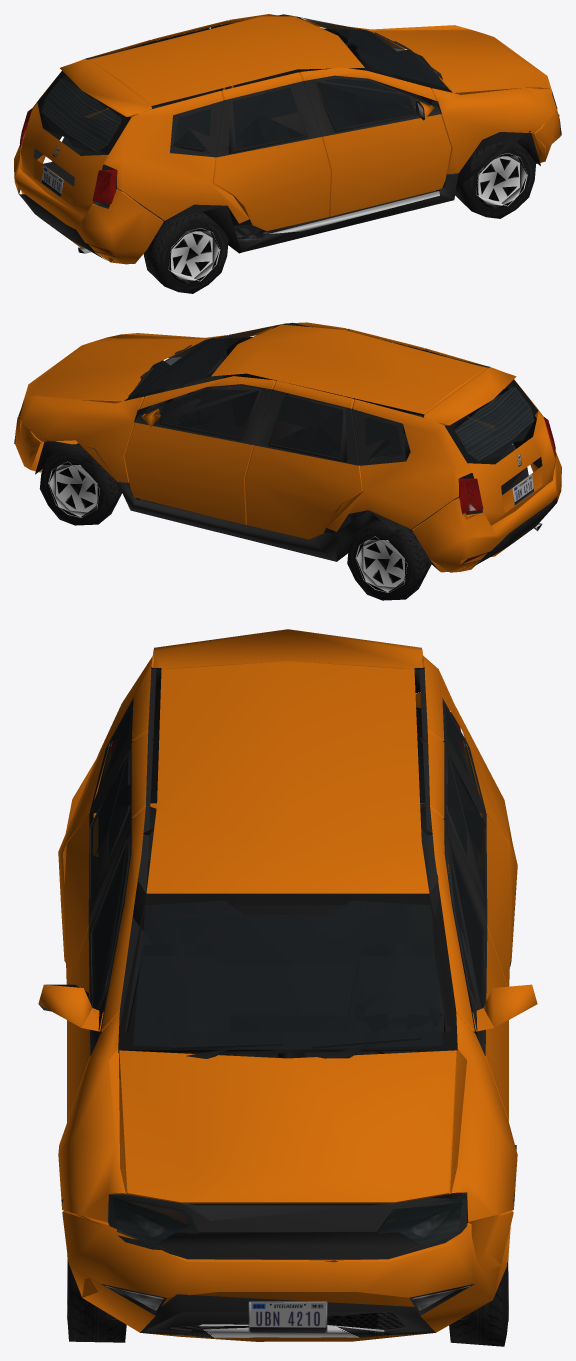
Rendered from v_urban10_lod.glb.
3 renders of one model, top to bottom at view 1: azimuth 30°, elevation 25°; view 2: azimuth 150°, elevation 25°; view 3: azimuth 270°, elevation 25°, orthographic. The views are drawn at different scales.
Visible parts, largest first — view 1: Urban10_body_Urban10_bodymat_0, Urban10_Bottom_UCB_BOTTOM_LT_0, Urban10_Interior_UCB_Interiors_2_0, Urban10_Bumper_Rear_Urban10_bodymat_0, Urban10_WheelStock_RR_RB1c_Tire_1k_0, Urban10_WheelStock_FR_RB1c_Tire_1k_0, Urban10_Body_Glass_UCB_Lights_and_Glass_Transperent_0, Urban10_Glass_Rear_UCB_Lights_and_Glass_Transperent_0, Urban10_Glass_Passenger_UCB_Lights_and_Glass_Transperent_0, Urban10_Windshield_UCB_Lights_and_Glass_Transperent_0, Urban10_Bumper_Rear_Inner_UCB_BOTTOM_LT_0, Urban10_Taillights_Glass_UCB_Lights_and_Glass_Transperent_0 (+2 smaller); view 2: Urban10_body_Urban10_bodymat_0, Urban10_Bottom_UCB_BOTTOM_LT_0, Urban10_Interior_UCB_Interiors_2_0, Urban10_Bumper_Rear_Urban10_bodymat_0, Urban10_WheelStock_RL_RB1c_Tire_1k_0, Urban10_WheelStock_FL_RB1c_Tire_1k_0, Urban10_Body_Glass_UCB_Lights_and_Glass_Transperent_0, Urban10_Glass_Rear_UCB_Lights_and_Glass_Transperent_0, Urban10_Glass_Driver_UCB_Lights_and_Glass_Transperent_0, Urban10_Windshield_UCB_Lights_and_Glass_Transperent_0, Urban10_Bumper_Rear_Inner_UCB_BOTTOM_LT_0, Urban10_Bumper_Front_Urban10_bodymat_0 (+2 smaller); view 3: Urban10_body_Urban10_bodymat_0, Urban10_Bottom_UCB_BOTTOM_LT_0, Urban10_Interior_UCB_Interiors_2_0, Urban10_Windshield_UCB_Lights_and_Glass_Transperent_0, Urban10_Bumper_Front_Urban10_bodymat_0, Urban10_Bumper_Front_Inner_UCB_BOTTOM_LT_0, Urban10_Body_Glass_UCB_Lights_and_Glass_Transperent_0, Urban10_Headlight_Glass_UCB_Lights_and_Glass_Transperent_0, Urban10_Glass_Passenger_UCB_Lights_and_Glass_Transperent_0, Urban10_Numberplate_Front_Numberplates_Misk_U_0, Urban10_WheelStock_FL_RB1c_Tire_1k_0, Urban10_WheelStock_FR_RB1c_Tire_1k_0 (+2 smaller).
Boxes of the visible parts, x1=… form: Urban10_body_Urban10_bodymat_0: x1=20, y1=14, x2=555, y2=261; Urban10_Bottom_UCB_BOTTOM_LT_0: x1=20, y1=14, x2=557, y2=253; Urban10_Interior_UCB_Interiors_2_0: x1=33, y1=28, x2=447, y2=228; Urban10_Bumper_Rear_Urban10_bodymat_0: x1=14, y1=142, x2=163, y2=264; Urban10_WheelStock_RR_RB1c_Tire_1k_0: x1=143, y1=212, x2=228, y2=293; Urban10_WheelStock_FR_RB1c_Tire_1k_0: x1=455, y1=142, x2=536, y2=218; Urban10_Body_Glass_UCB_Lights_and_Glass_Transperent_0: x1=173, y1=87, x2=305, y2=151; Urban10_Glass_Rear_UCB_Lights_and_Glass_Transperent_0: x1=41, y1=78, x2=121, y2=152; Urban10_Glass_Passenger_UCB_Lights_and_Glass_Transperent_0: x1=317, y1=78, x2=413, y2=130; Urban10_Windshield_UCB_Lights_and_Glass_Transperent_0: x1=301, y1=17, x2=447, y2=87; Urban10_Bumper_Rear_Inner_UCB_BOTTOM_LT_0: x1=18, y1=188, x2=115, y2=260; Urban10_Taillights_Glass_UCB_Lights_and_Glass_Transperent_0: x1=19, y1=108, x2=116, y2=204; Urban10_body_Urban10_bodymat_0: x1=19, y1=322, x2=555, y2=572; Urban10_Bottom_UCB_BOTTOM_LT_0: x1=19, y1=322, x2=555, y2=571; Urban10_Interior_UCB_Interiors_2_0: x1=128, y1=337, x2=542, y2=536; Urban10_Bumper_Rear_Urban10_bodymat_0: x1=412, y1=452, x2=561, y2=572; Urban10_WheelStock_RL_RB1c_Tire_1k_0: x1=347, y1=519, x2=431, y2=600; Urban10_WheelStock_FL_RB1c_Tire_1k_0: x1=39, y1=444, x2=121, y2=525; Urban10_Body_Glass_UCB_Lights_and_Glass_Transperent_0: x1=271, y1=396, x2=402, y2=460; Urban10_Glass_Rear_UCB_Lights_and_Glass_Transperent_0: x1=454, y1=386, x2=534, y2=461; Urban10_Glass_Driver_UCB_Lights_and_Glass_Transperent_0: x1=161, y1=389, x2=258, y2=439; Urban10_Windshield_UCB_Lights_and_Glass_Transperent_0: x1=128, y1=326, x2=274, y2=396; Urban10_Bumper_Rear_Inner_UCB_BOTTOM_LT_0: x1=460, y1=496, x2=557, y2=566; Urban10_Bumper_Front_Urban10_bodymat_0: x1=15, y1=380, x2=140, y2=472; Urban10_body_Urban10_bodymat_0: x1=38, y1=629, x2=537, y2=1341; Urban10_Bottom_UCB_BOTTOM_LT_0: x1=39, y1=667, x2=517, y2=1319; Urban10_Interior_UCB_Interiors_2_0: x1=94, y1=667, x2=482, y2=1204; Urban10_Windshield_UCB_Lights_and_Glass_Transperent_0: x1=133, y1=900, x2=442, y2=1049; Urban10_Bumper_Front_Urban10_bodymat_0: x1=62, y1=1210, x2=513, y2=1341; Urban10_Bumper_Front_Inner_UCB_BOTTOM_LT_0: x1=101, y1=1284, x2=474, y2=1338; Urban10_Body_Glass_UCB_Lights_and_Glass_Transperent_0: x1=91, y1=709, x2=484, y2=895; Urban10_Headlight_Glass_UCB_Lights_and_Glass_Transperent_0: x1=113, y1=1197, x2=462, y2=1245; Urban10_Glass_Passenger_UCB_Lights_and_Glass_Transperent_0: x1=90, y1=841, x2=127, y2=1008; Urban10_Numberplate_Front_Numberplates_Misk_U_0: x1=248, y1=1301, x2=327, y2=1333; Urban10_WheelStock_FL_RB1c_Tire_1k_0: x1=449, y1=1192, x2=508, y2=1346; Urban10_WheelStock_FR_RB1c_Tire_1k_0: x1=67, y1=1194, x2=126, y2=1342.
Size of the model in its own units: 4.27 by 1.49 by 1.88.
Materials: 8 (7 with a texture image).
